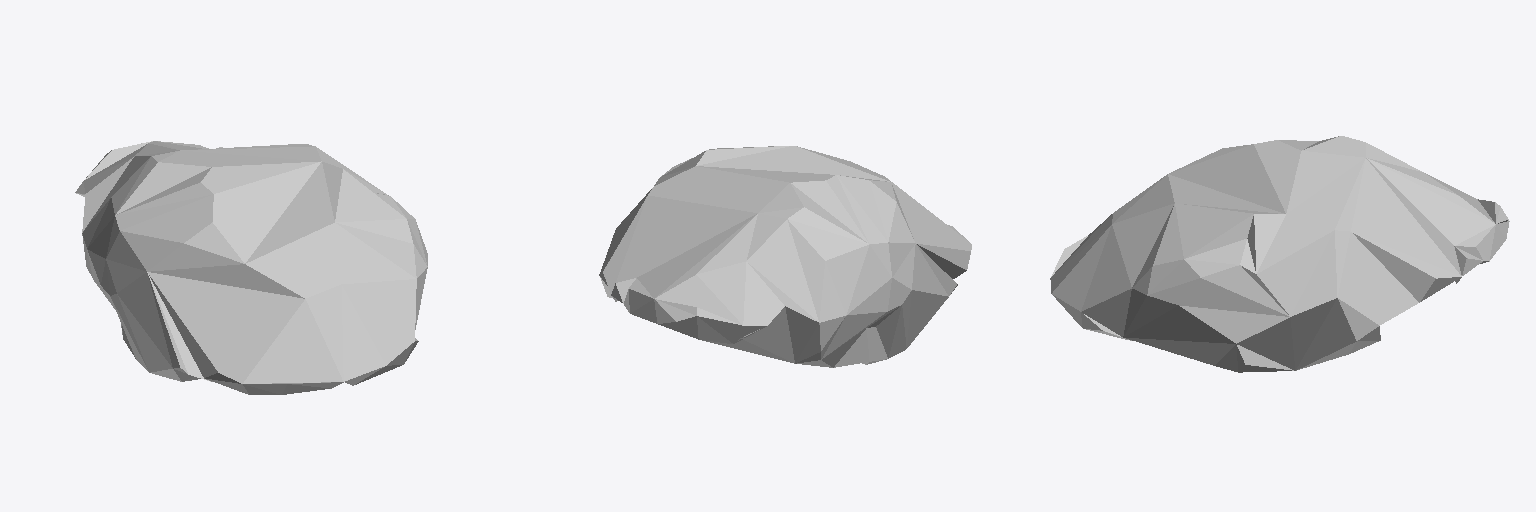
The model's file is LeftPatella.obj.
3 views of the same model, side by side, from view 1: azimuth 30°, elevation 25°; view 2: azimuth 150°, elevation 25°; view 3: azimuth 270°, elevation 25° (orthographic).
Parts seen in each view (by area): view 1: grp9; view 2: grp9; view 3: grp9.
Boxes of the visible parts, box(x1,y1,x2,y2) form: grp9: box(75, 141, 427, 394); grp9: box(599, 146, 971, 367); grp9: box(1050, 136, 1509, 372).
Bounding box in the file's own units: 0.0286 × 0.0172 × 0.0402.